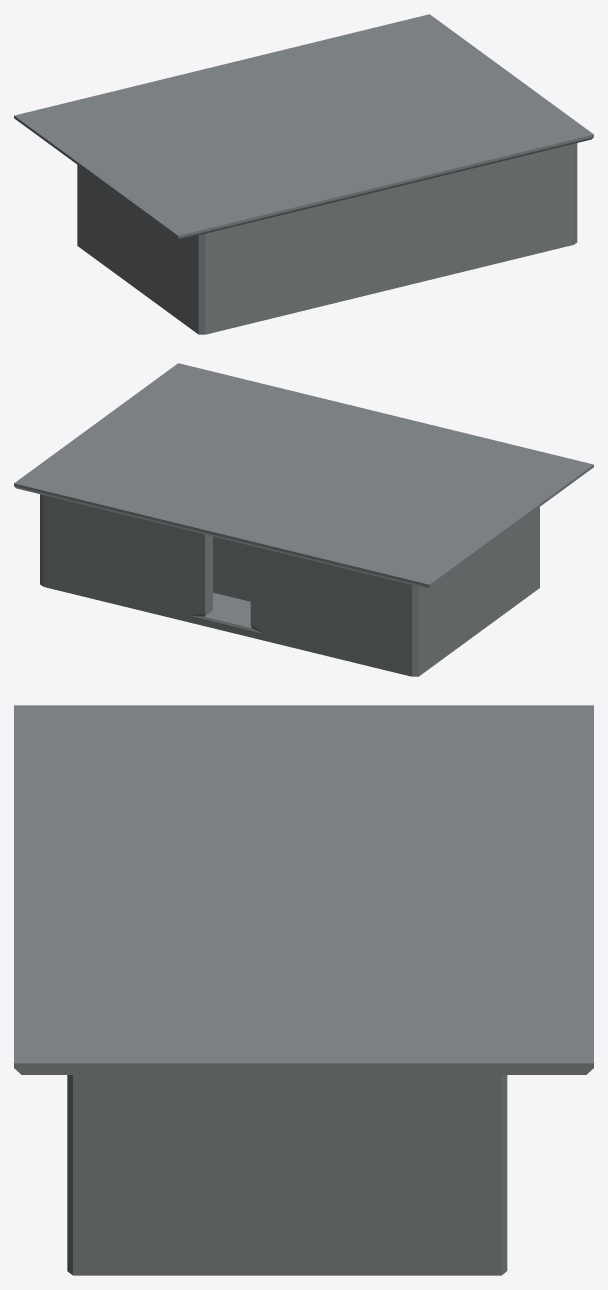
Rendered from nanikoretoilet.fbx.
The picture shows the model from 3 angles, top to bottom: view 1: azimuth 30°, elevation 25°; view 2: azimuth 150°, elevation 25°; view 3: azimuth 270°, elevation 25°; orthographic projection. The views are drawn at different scales.
Parts seen in each view (by area): view 1: 立方体; view 2: 立方体; view 3: 立方体.
Part boxes in pixels (bbox=[...]): 立方体: bbox=[14, 14, 593, 334]; 立方体: bbox=[14, 363, 593, 676]; 立方体: bbox=[14, 705, 593, 1275].
Size of the model in its own units: 385 by 106 by 264.
